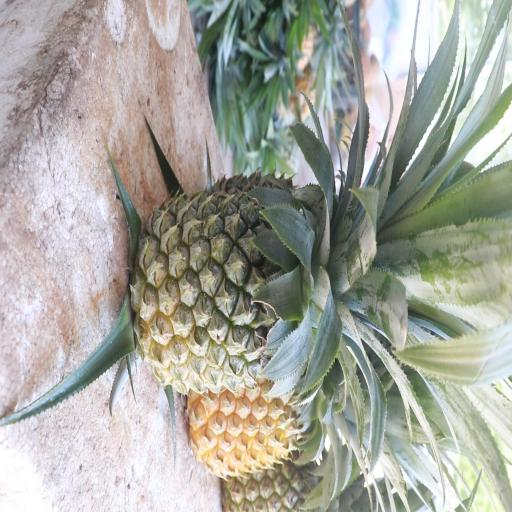------------------------------: (140, 186, 358, 392)
Pineapple - v8 v1: (192, 374, 324, 480)
